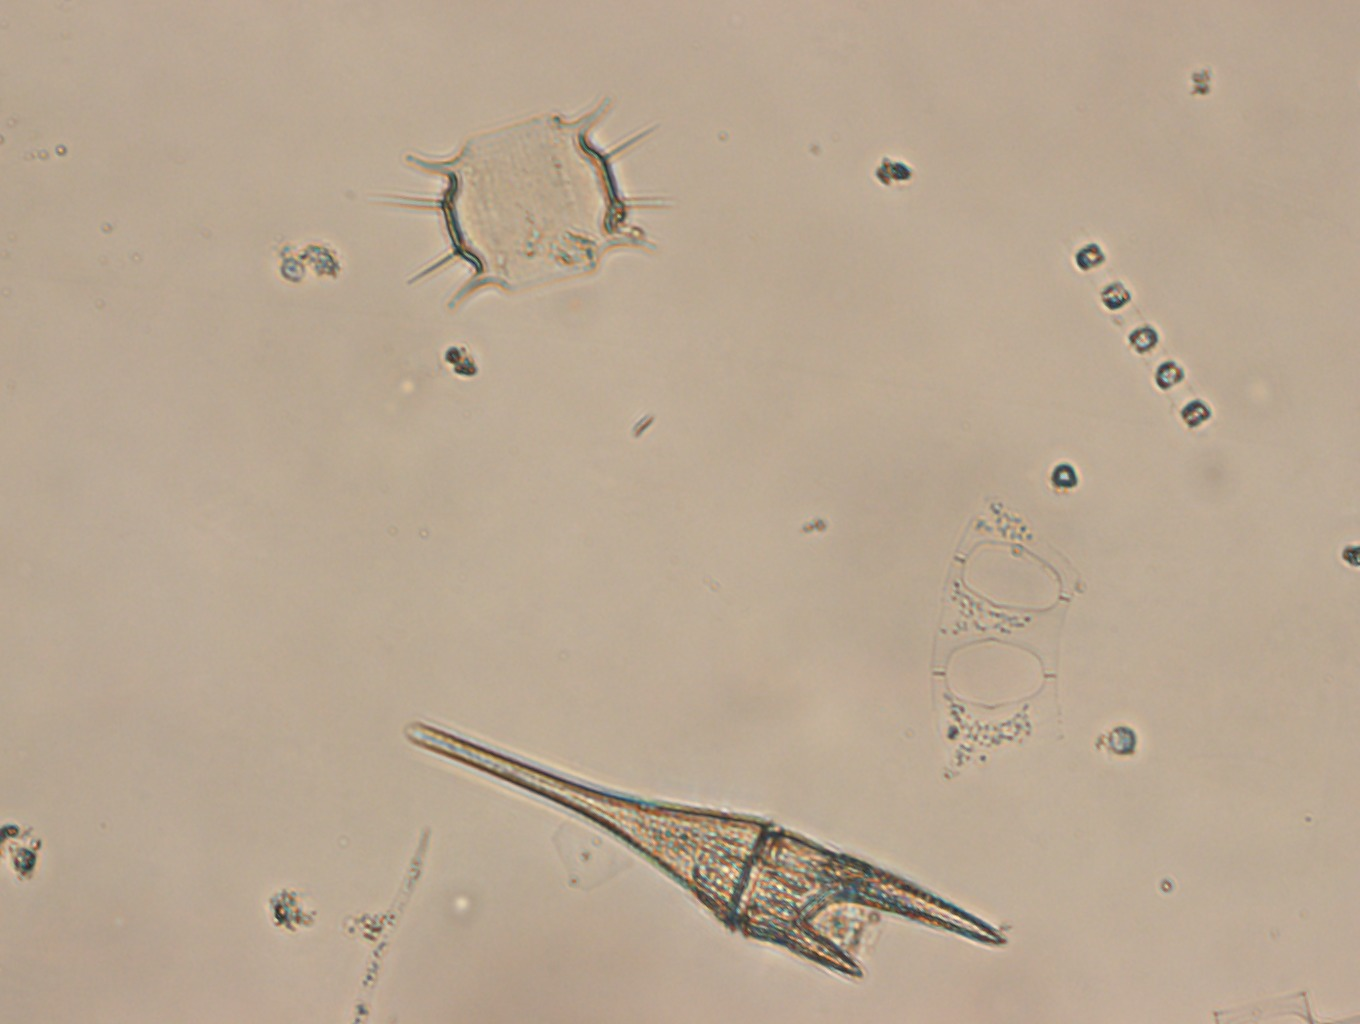ceratium furca: (393, 712, 1007, 989)
eucampia: (920, 490, 1091, 784)
skeletonema: (1059, 228, 1223, 446)
